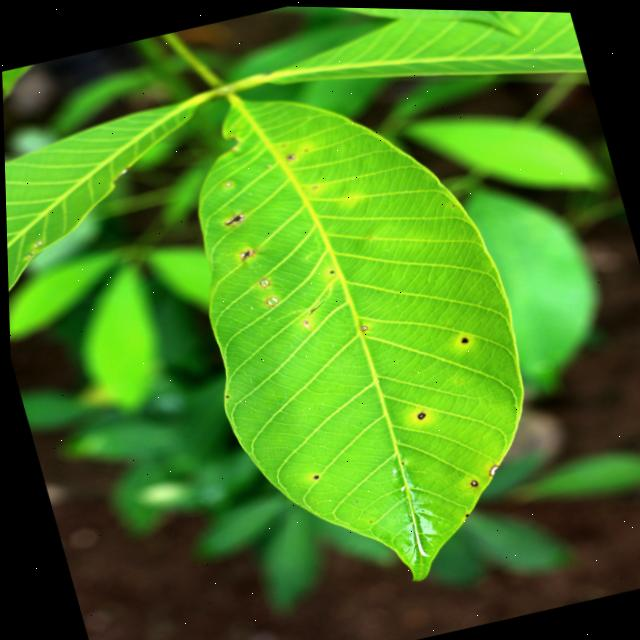Colletotrichum: (414, 409, 423, 417), (467, 476, 474, 484), (357, 322, 366, 328), (458, 334, 466, 340)
